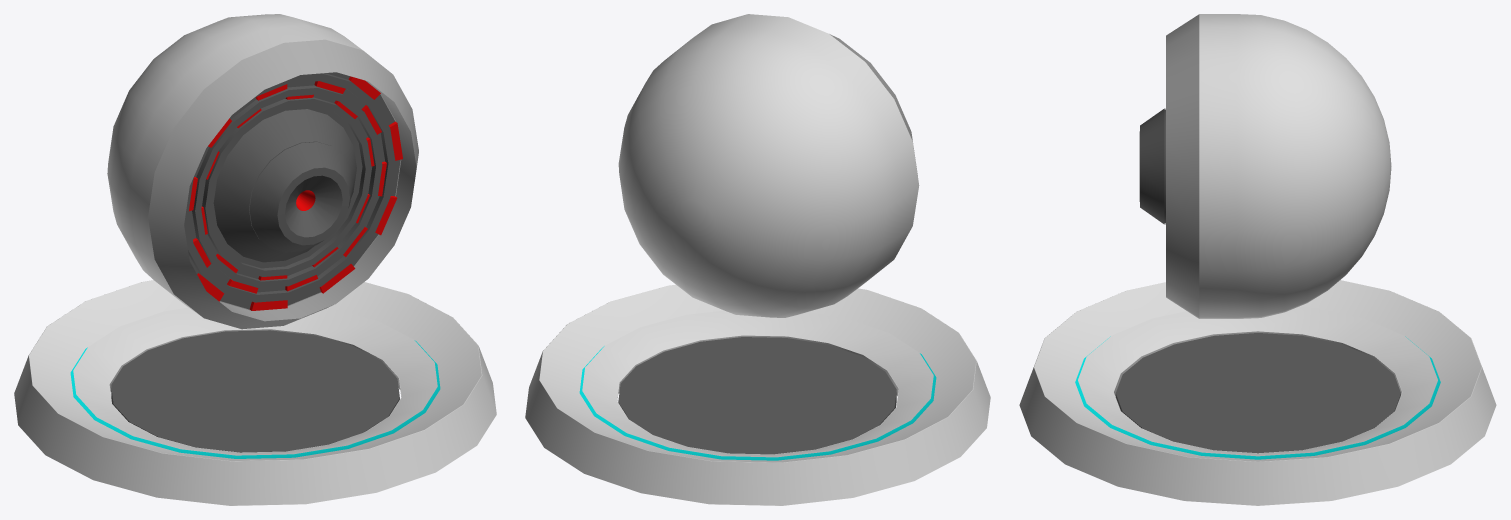
File: SentinelV6.fbx
3 views of the same model, side by side, from view 1: azimuth 30°, elevation 25°; view 2: azimuth 150°, elevation 25°; view 3: azimuth 270°, elevation 25° (orthographic). The views are drawn at different scales.
Parts seen in each view (by area): view 1: SentinelHead, Base1, Levitador; view 2: SentinelHead, Base1, Levitador; view 3: SentinelHead, Base1, Levitador.
Boxes of the visible parts, x1,y1,x2,y2 form: SentinelHead: (107, 14, 418, 329); Base1: (14, 280, 496, 505); Levitador: (111, 330, 399, 452); SentinelHead: (618, 14, 919, 317); Base1: (525, 284, 990, 505); Levitador: (618, 337, 896, 454); SentinelHead: (1139, 14, 1391, 318); Base1: (1019, 280, 1496, 505); Levitador: (1115, 333, 1400, 453).
Size of the model in its own units: 6.09 by 5.31 by 6.09.
